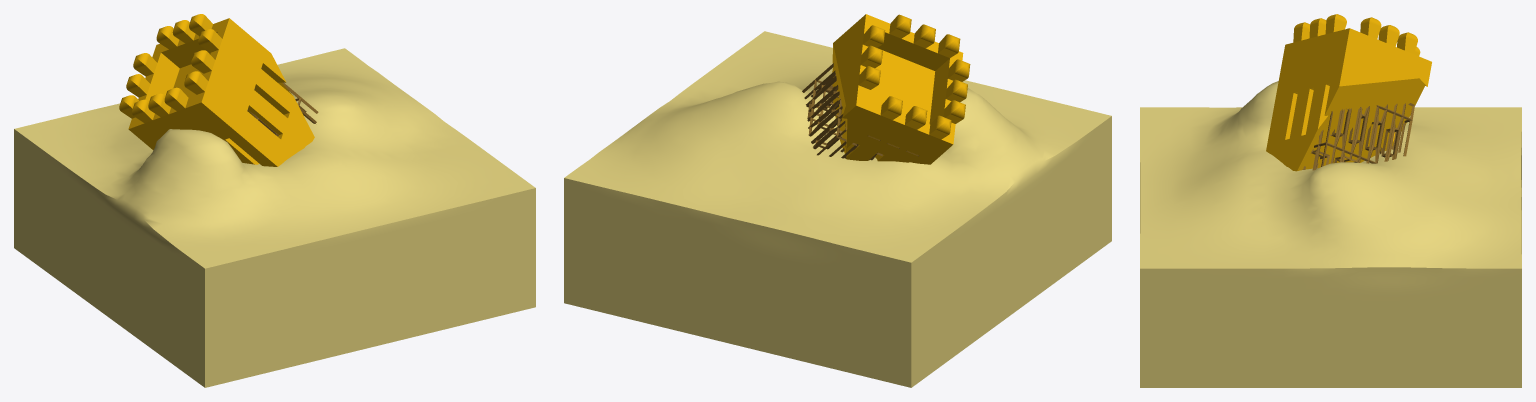
The model's file is Ruins 3.fbx.
The picture shows the model from 3 angles, left to right: view 1: azimuth 30°, elevation 25°; view 2: azimuth 150°, elevation 25°; view 3: azimuth 270°, elevation 25°; orthographic projection. The views are drawn at different scales.
Visible parts, largest first — view 1: Cube.006, Cube.002; view 2: Cube.006, Cube.002, Cube.001; view 3: Cube.006, Cube.002, Cube.001.
Part boxes in pixels (x1,y1,x2,y2): Cube.006: (14,48,535,387); Cube.002: (119,14,314,166); Cube.006: (564,31,1111,387); Cube.002: (832,14,970,164); Cube.001: (802,63,918,160); Cube.006: (1140,81,1521,387); Cube.002: (1266,14,1431,171); Cube.001: (1302,103,1414,170).
Size of the model in its own units: 748 by 568 by 748.
